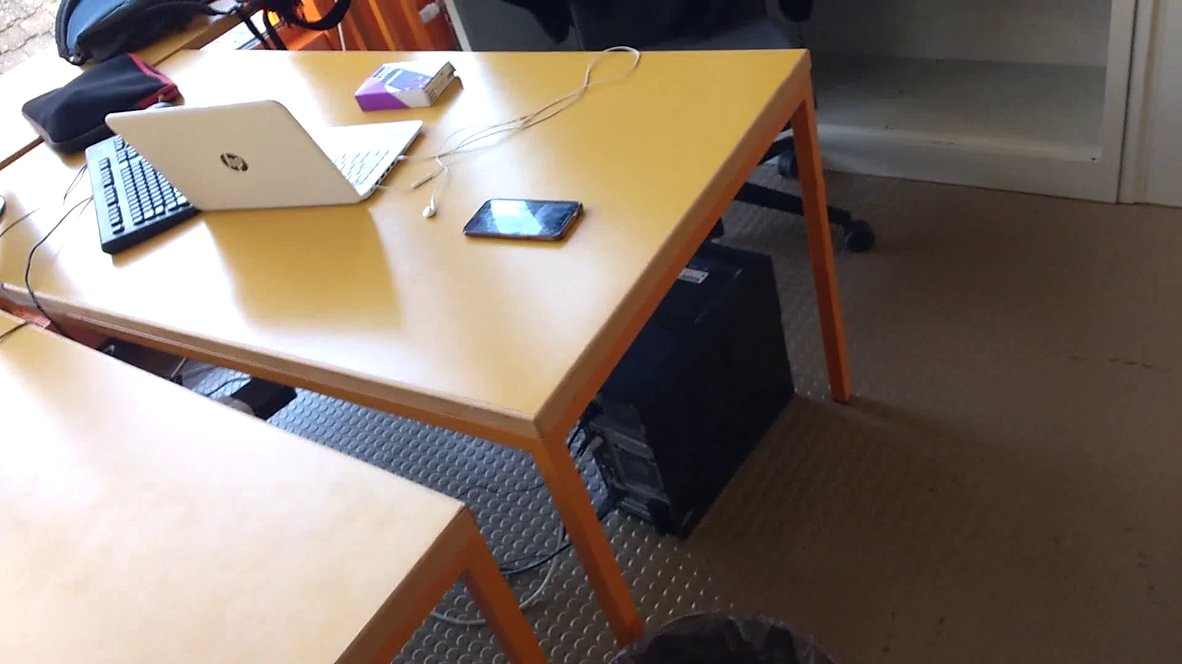laptop: (103, 94, 430, 223)
phone: (459, 193, 601, 250)
